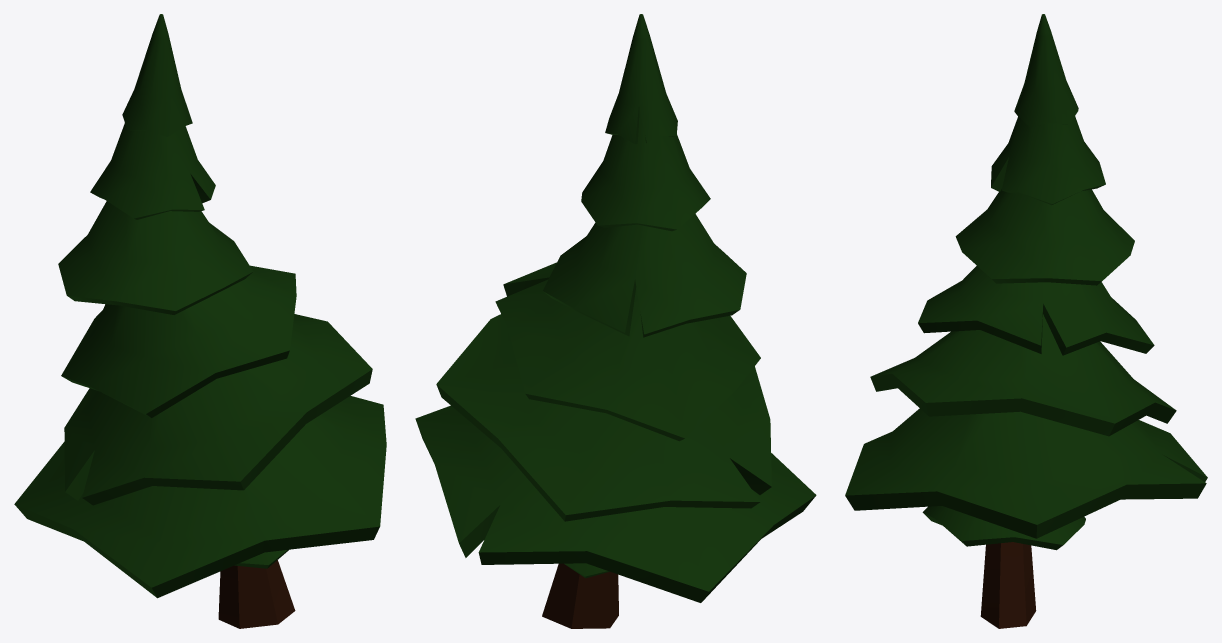
The model's file is sapin3.FBX.
The picture shows the model from 3 angles, left to right: view 1: azimuth 30°, elevation 25°; view 2: azimuth 150°, elevation 25°; view 3: azimuth 270°, elevation 25°; orthographic projection. The views are drawn at different scales.
Parts seen in each view (by area): view 1: Cylinder024; view 2: Cylinder024; view 3: Cylinder024.
Part boxes in pixels (bbox=[...]): Cylinder024: bbox=[14, 14, 386, 628]; Cylinder024: bbox=[415, 14, 816, 628]; Cylinder024: bbox=[845, 14, 1207, 628].
Bounding box in the file's own units: 92.77 × 165 × 96.05.
